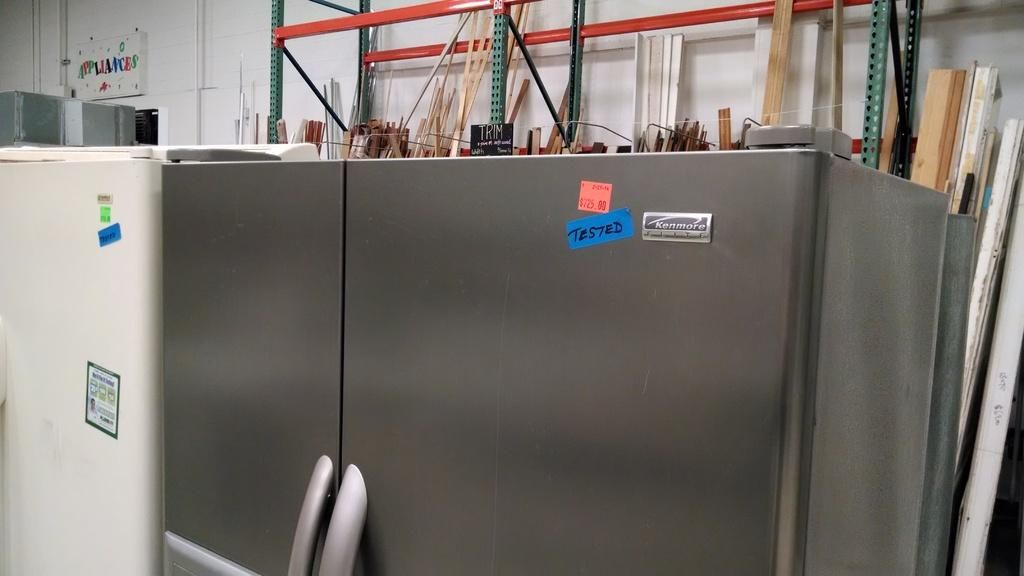handle: (274, 450, 334, 576), (326, 470, 376, 576)
